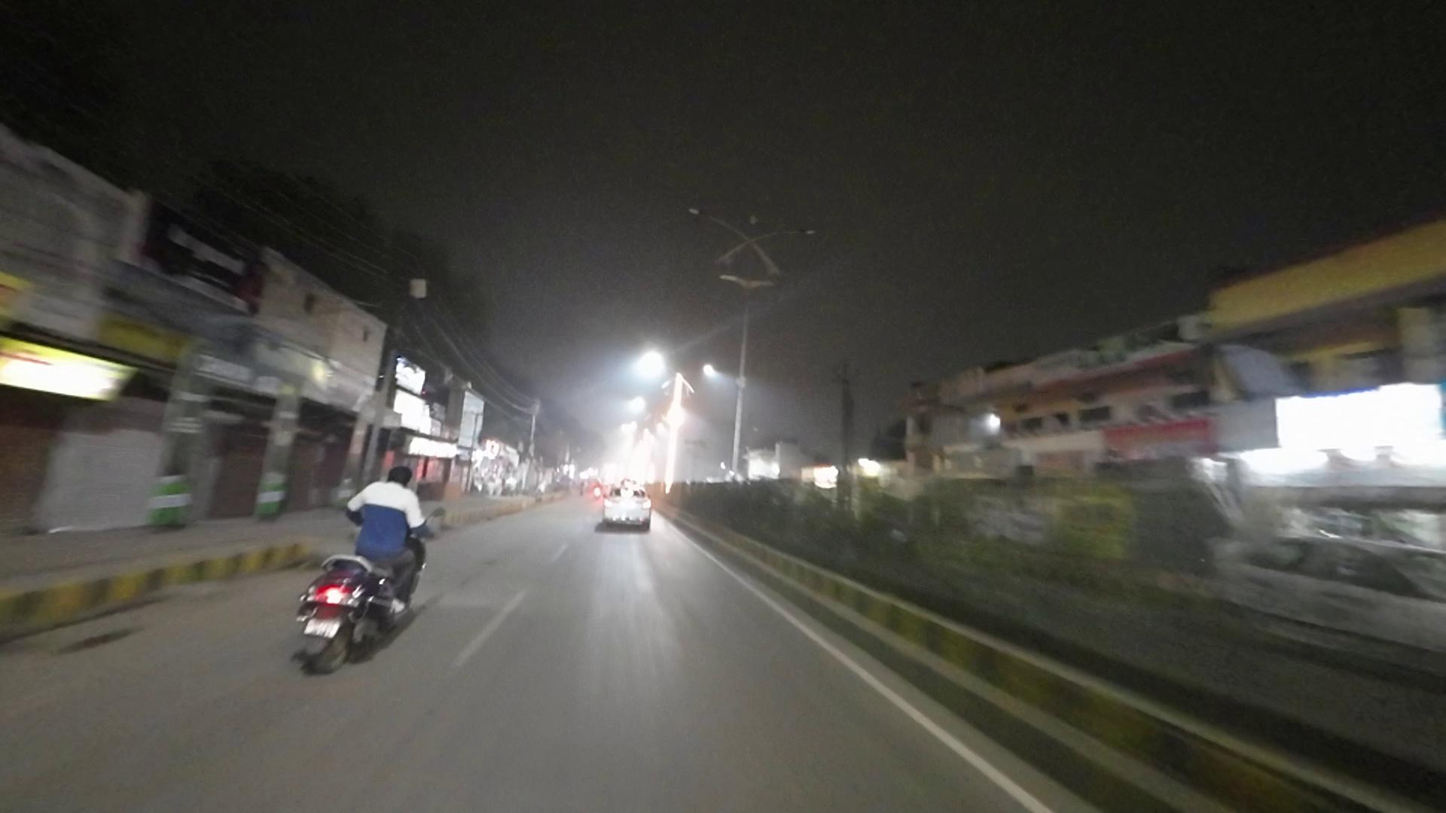streetlight: (685, 205, 746, 240), (755, 227, 819, 243)
